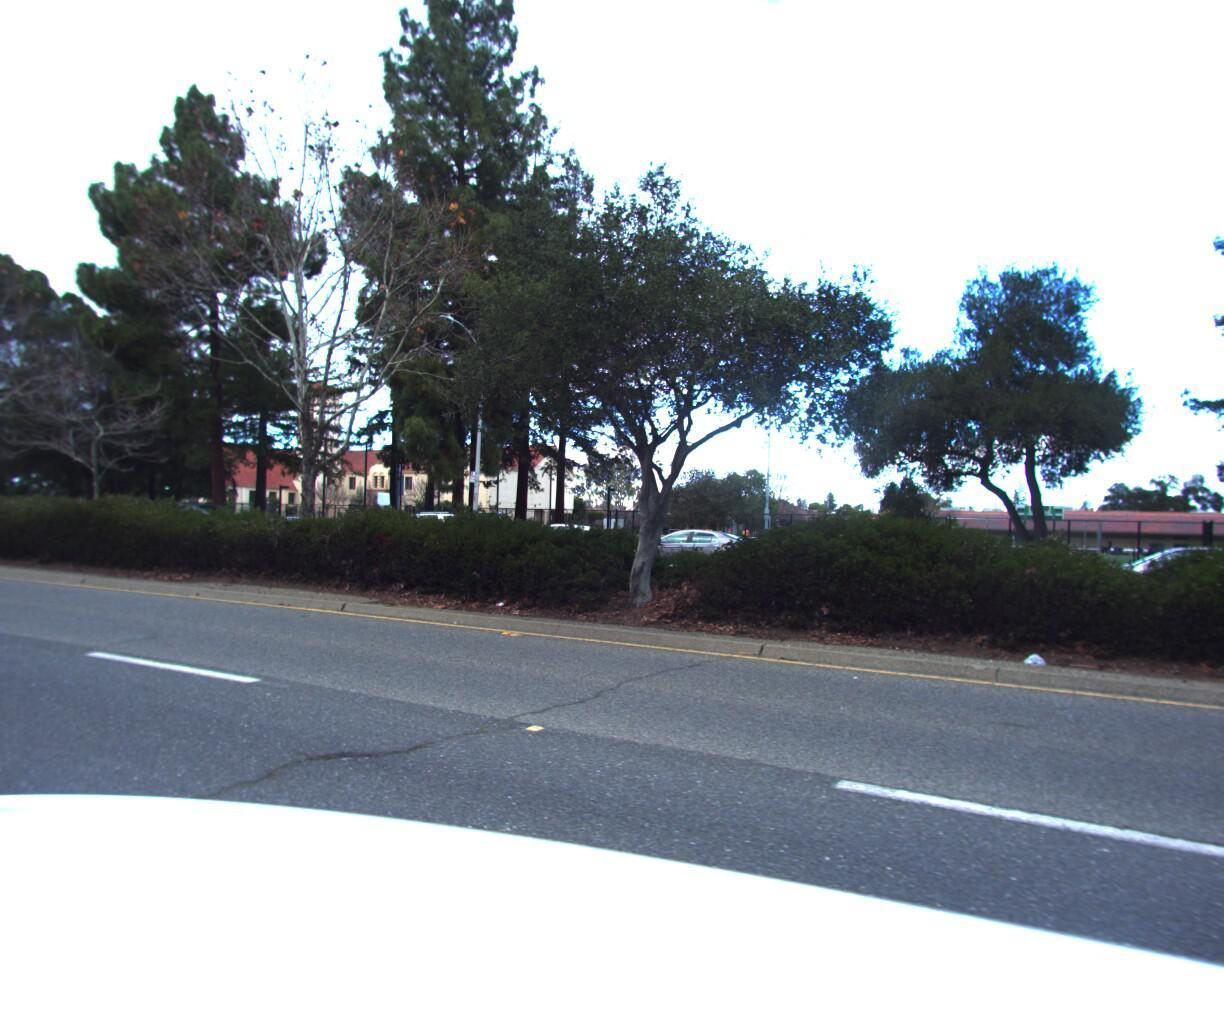car: (1073, 533, 1224, 614), (623, 520, 771, 580), (485, 513, 617, 565), (366, 503, 486, 551)
